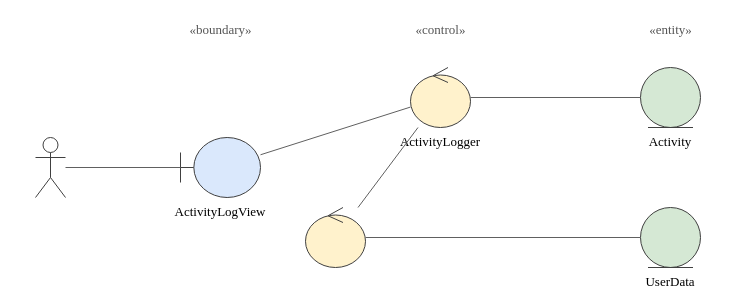
The diagram is 748 pixels wide and 307 high, and some of its shapes have lost their labels. The box of each missing label's shape, as (x1, y1, x2, y2) in pixels:
Người dùng: (34, 136, 66, 198)
SyncedState: (304, 206, 366, 268)
